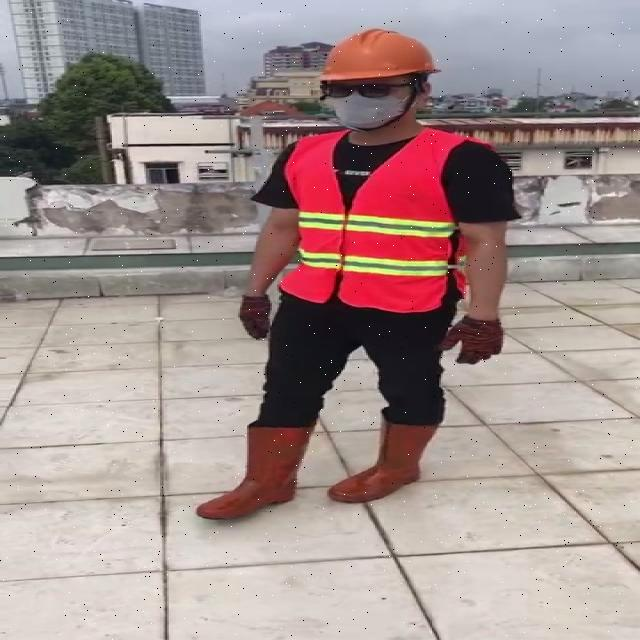Hard_hat: (310, 26, 446, 95)
Vest: (289, 126, 460, 315)
